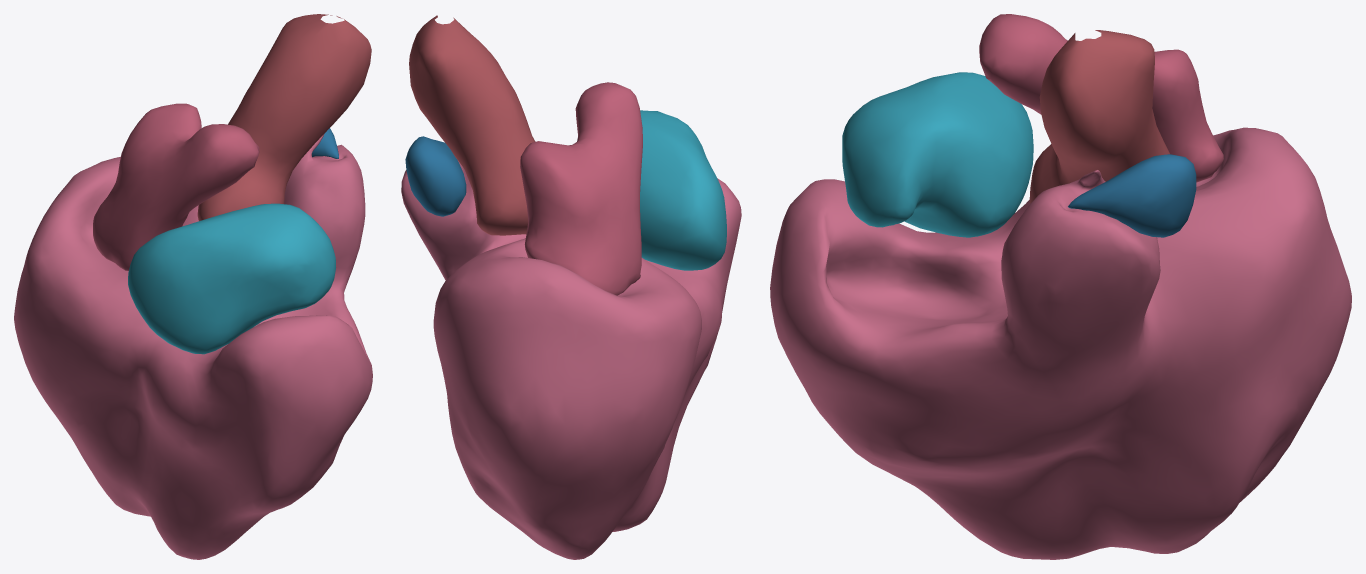
File: frame_54.glb
The picture shows the model from 3 angles, left to right: view 1: azimuth 30°, elevation 25°; view 2: azimuth 150°, elevation 25°; view 3: azimuth 270°, elevation 25°; orthographic projection. The views are drawn at different scales.
Parts seen in each view (by area): view 1: Renderer Node; view 2: Renderer Node; view 3: Renderer Node.
Boxes of the visible parts, x1,y1,x2,y2 form: Renderer Node: (14,14,372,559); Renderer Node: (401,15,741,559); Renderer Node: (770,14,1351,559).
Bounding box in the file's own units: 102 × 158 × 134.
